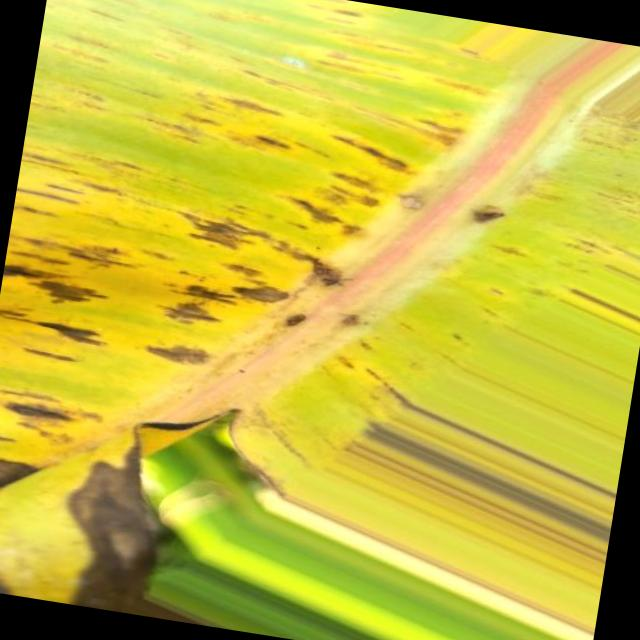Banana_Black_Sigatoka: (0, 102, 406, 500)
